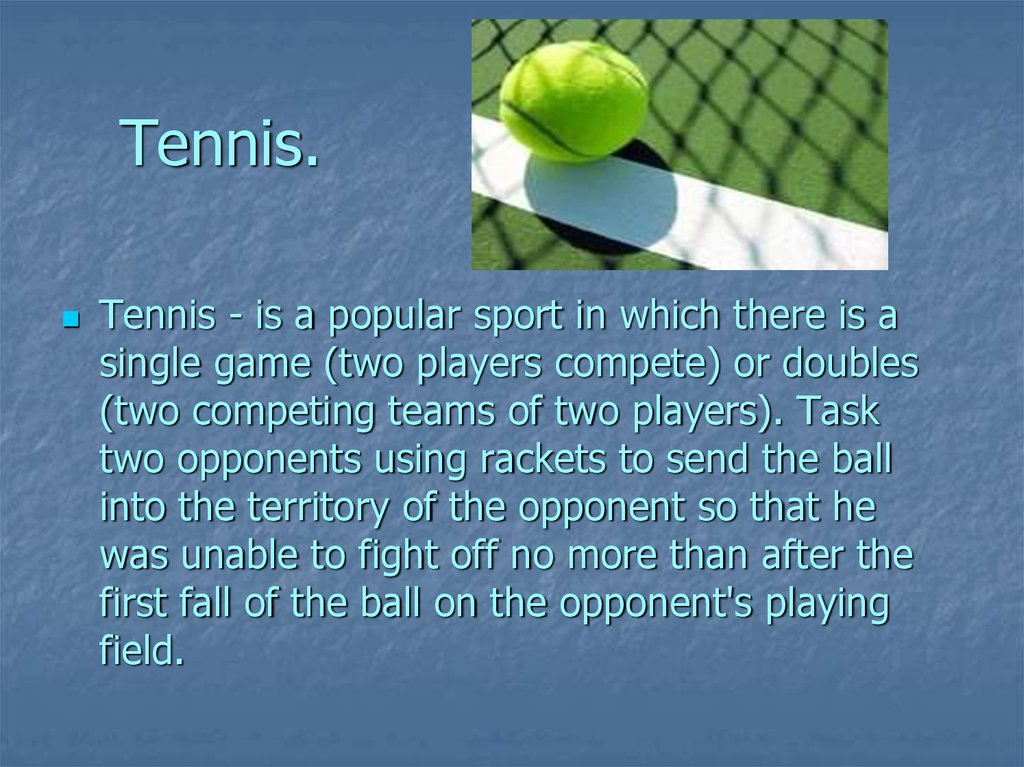tennis_ball: (497, 37, 651, 163)
